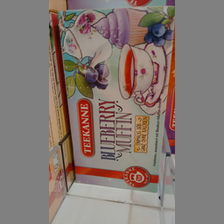tea: (57, 6, 174, 193)
